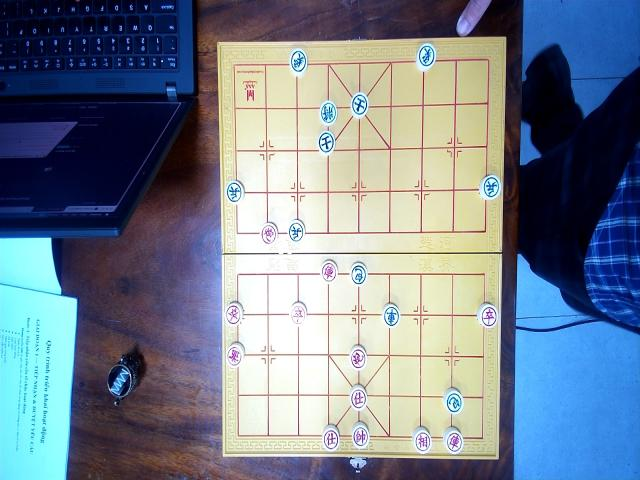piece: (478, 173, 500, 200), (415, 42, 436, 70), (412, 426, 432, 454), (442, 387, 462, 415), (477, 301, 497, 328), (442, 427, 462, 453), (351, 421, 370, 448), (322, 424, 341, 451), (226, 342, 245, 368), (349, 383, 367, 410), (350, 344, 368, 371), (289, 48, 307, 75), (350, 91, 368, 118), (319, 99, 337, 125), (350, 261, 368, 286), (382, 302, 400, 327), (225, 301, 243, 325), (225, 178, 243, 202), (318, 130, 336, 154), (291, 300, 307, 325), (320, 260, 336, 283), (288, 219, 304, 242), (260, 222, 276, 244)
